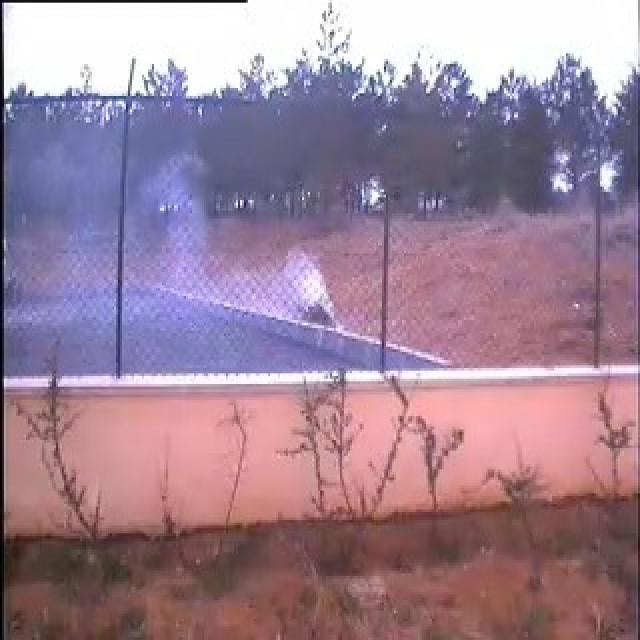smoke: (120, 124, 386, 379)
